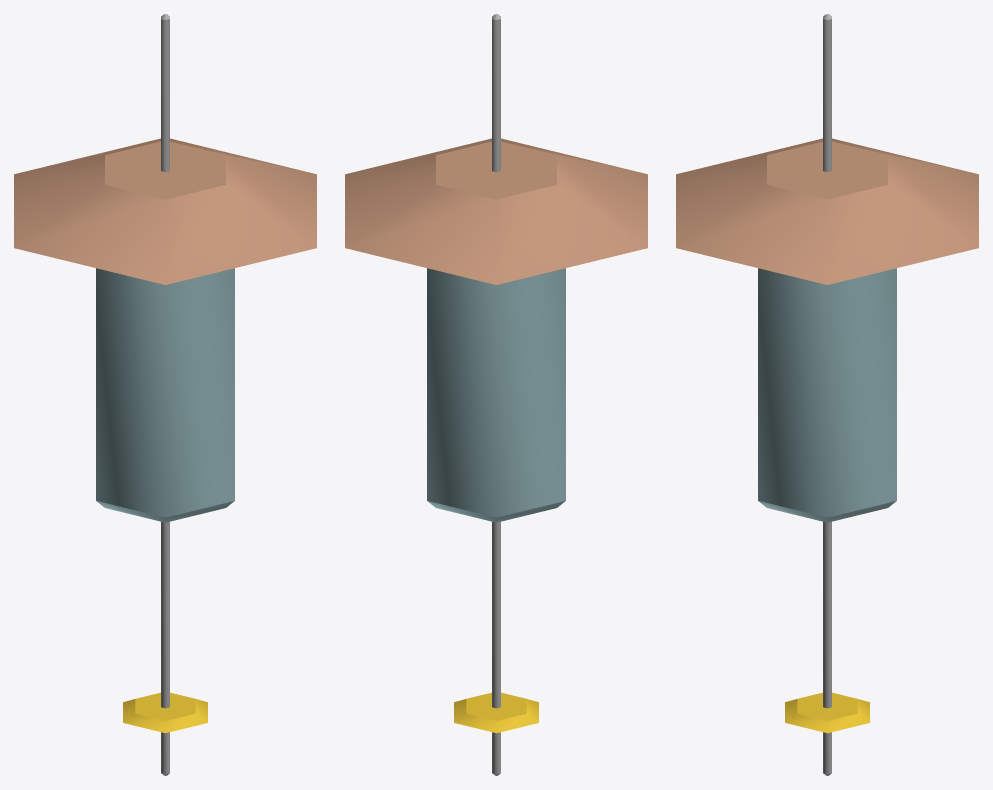
File: ricochet_droid.dae
3 views of the same model, side by side, from view 1: azimuth 30°, elevation 25°; view 2: azimuth 150°, elevation 25°; view 3: azimuth 270°, elevation 25° (orthographic).
Parts seen in each view (by area): view 1: $dummy_node (×4); view 2: $dummy_node (×4); view 3: $dummy_node (×4).
Part boxes in pixels (bbox=[...]): $dummy_node (×4): bbox=[14, 14, 316, 775]; $dummy_node (×4): bbox=[345, 14, 647, 775]; $dummy_node (×4): bbox=[676, 14, 978, 775].
Bounding box in the file's own units: 1 × 2.4 × 0.866.
